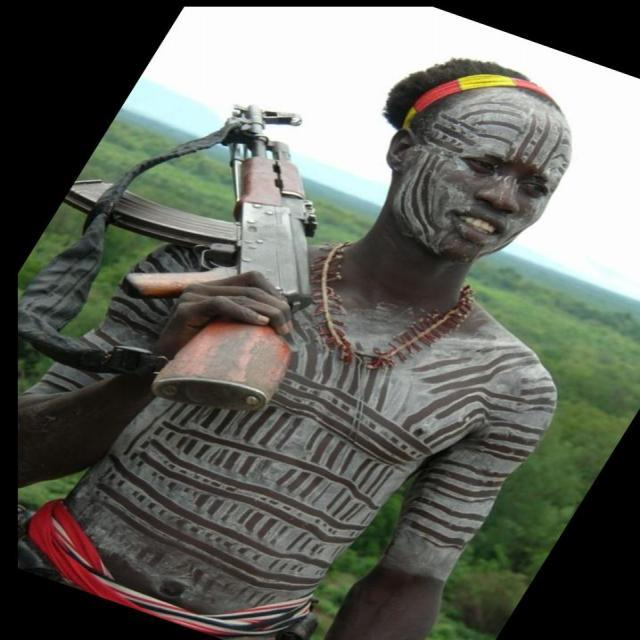weapon: (59, 105, 320, 414)
